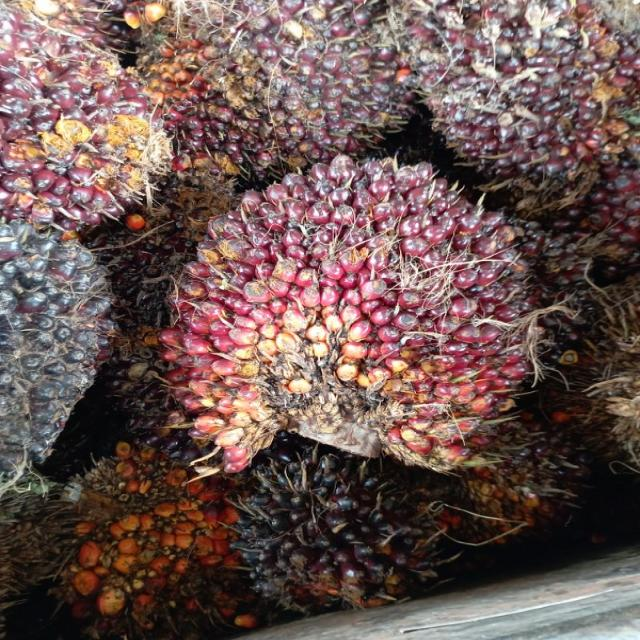fraksi 1: (112, 109, 597, 532)
